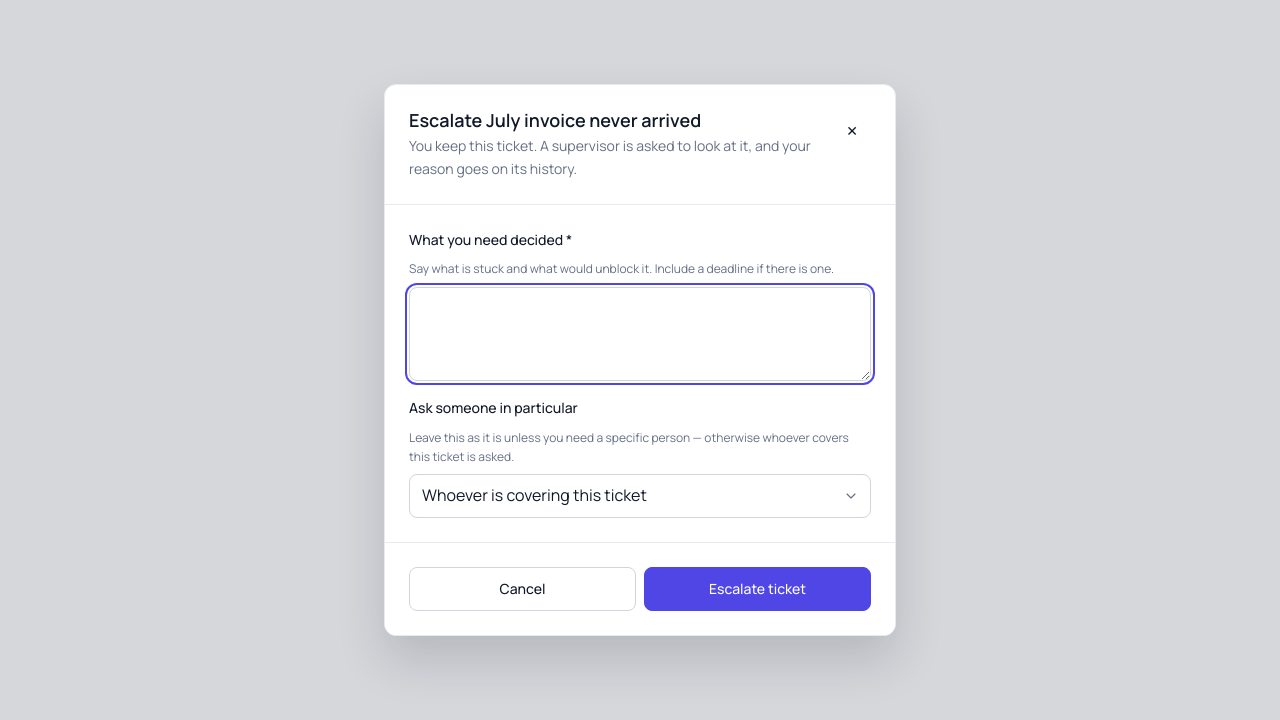
Test case: what the agent is told afterwards › keeps the dialog open and the reason intact when the API refuses
The width and height of the screenshot is (1280, 720).
Type "Asking Liang to look at this." into the text box labelled "What you need decided *" at (640, 334), box [409,287,871,382]
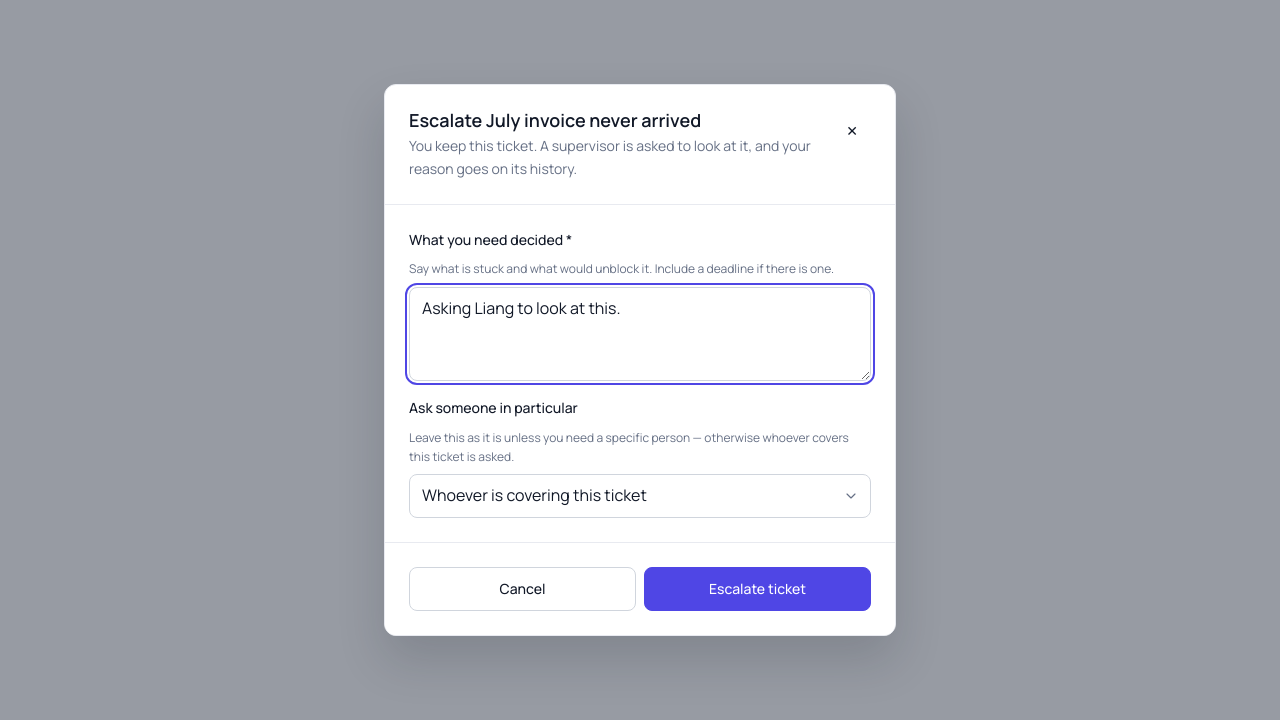
Click the button "Escalate ticket" at (758, 589), box [644,567,871,611]
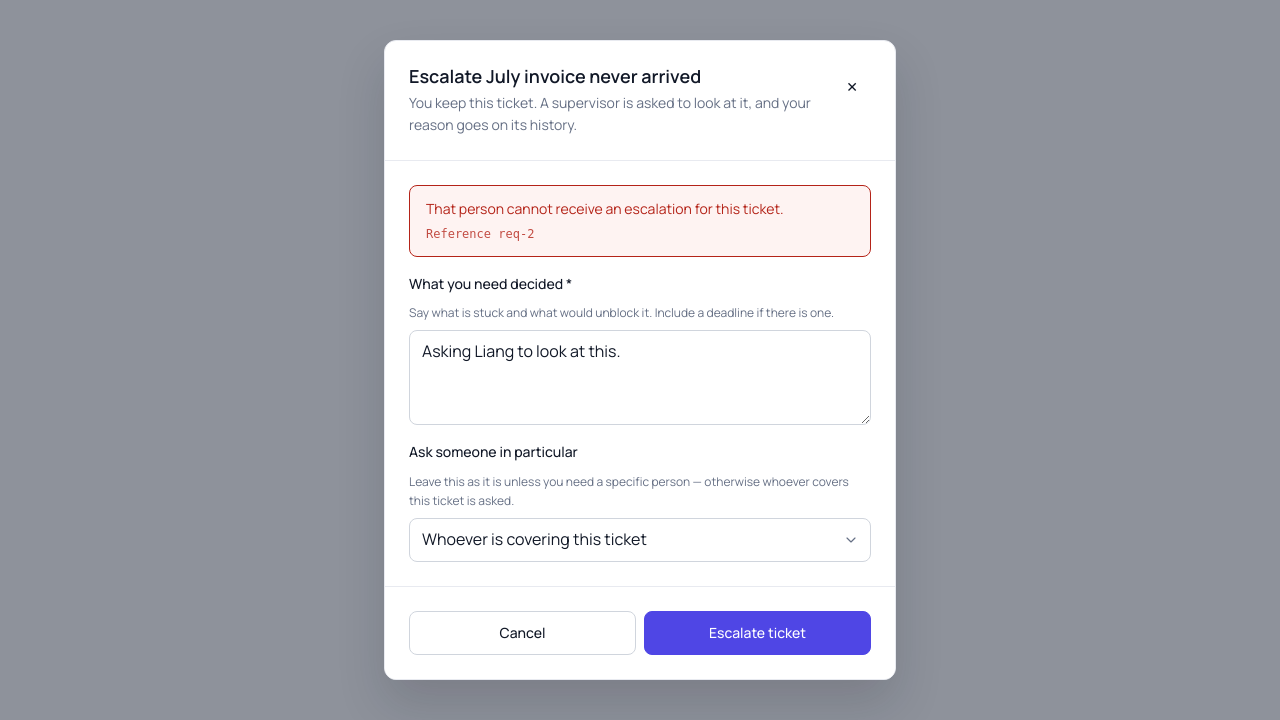
Expected: the text "That person cannot receive an escalation for this ticket." is shown, [426,199,784,218]
